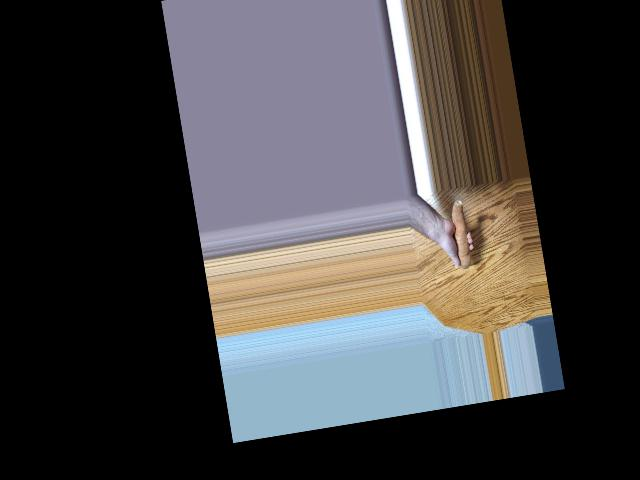sweet_potato: (441, 198, 473, 271)
